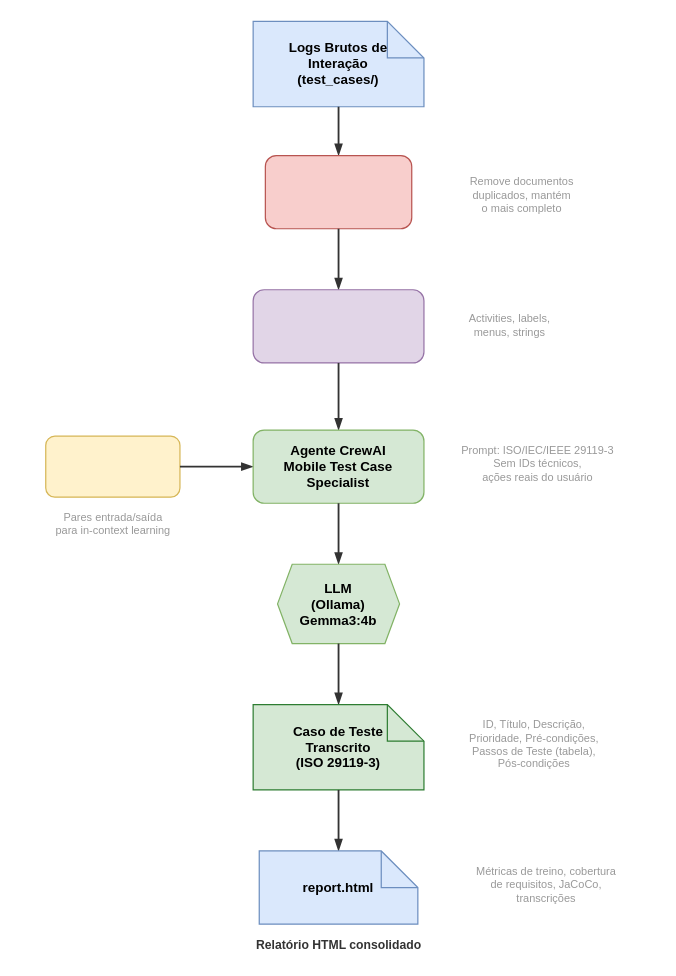
The diagram is 676 pixels wide and 976 high, and some of its shapes have lost their labels. Each missing label, with the centre of its shape:
"Extração de Contexto da App (XMLs do código-fonte)" belongs at (x=338, y=326).
"Few-Shot Examples" belongs at (x=112, y=466).
"Filtro de Similaridade (> 90%)" belongs at (x=338, y=191).
